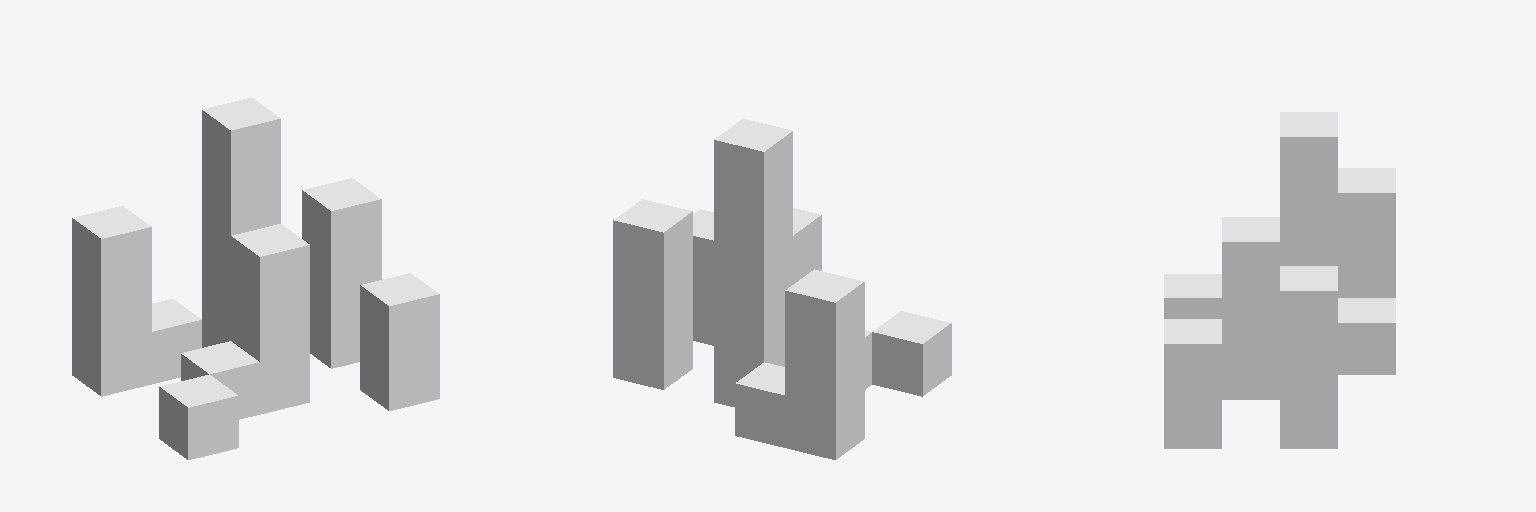
The model's file is Grass.obj.
3 renders of one model, left to right at view 1: azimuth 30°, elevation 25°; view 2: azimuth 150°, elevation 25°; view 3: azimuth 270°, elevation 25°, orthographic.
Visible parts, largest first — view 1: object 1; view 2: object 1; view 3: object 1.
Boxes of the visible parts, box(x1,y1,x2,y2) form: object 1: box(72, 97, 439, 459); object 1: box(613, 119, 951, 459); object 1: box(1164, 112, 1395, 448).
Size of the model in its own units: 0.5 by 0.5 by 0.4.